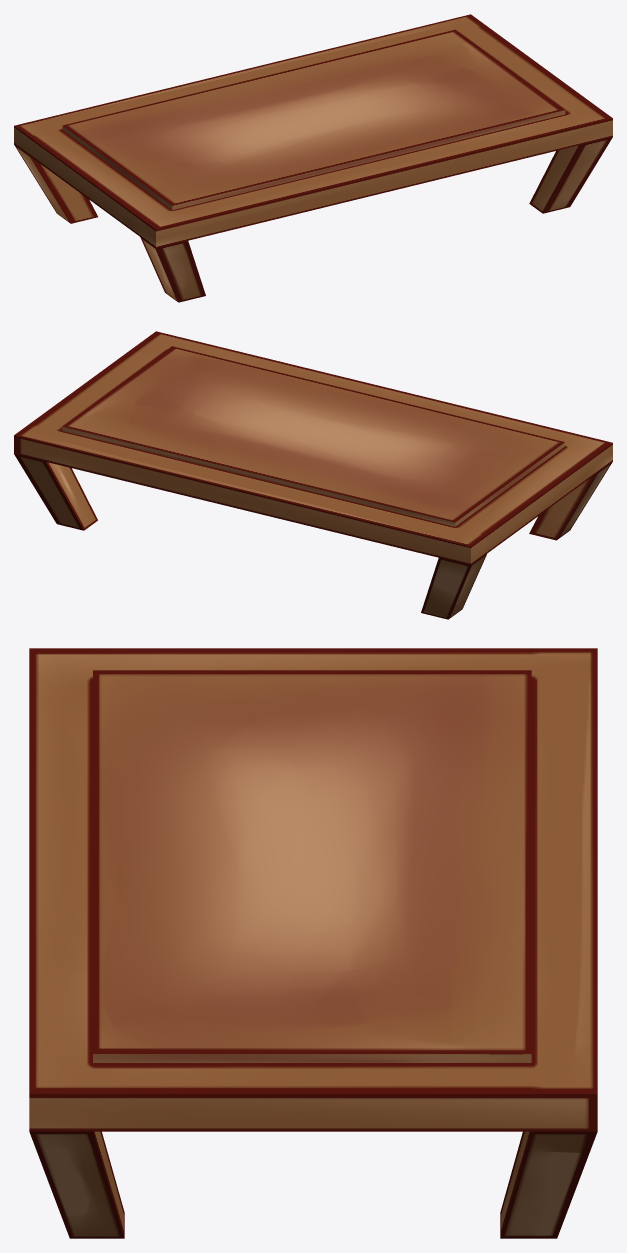
The model's file is Table.fbx.
3 renders of one model, top to bottom at view 1: azimuth 30°, elevation 25°; view 2: azimuth 150°, elevation 25°; view 3: azimuth 270°, elevation 25°, orthographic. The views are drawn at different scales.
Parts seen in each view (by area): view 1: Table:Table; view 2: Table:Table; view 3: Table:Table.
Part boxes in pixels (left/top/right/bottom): Table:Table: left=14, top=14, right=612, bottom=302; Table:Table: left=14, top=331, right=612, bottom=619; Table:Table: left=29, top=648, right=597, bottom=1238.
Bounding box in the file's own units: 30.43 × 5.91 × 16.39.
